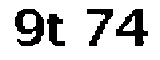4: (112, 9, 149, 51)
7: (83, 5, 115, 51)
9: (10, 6, 46, 51)
t: (48, 9, 70, 51)
